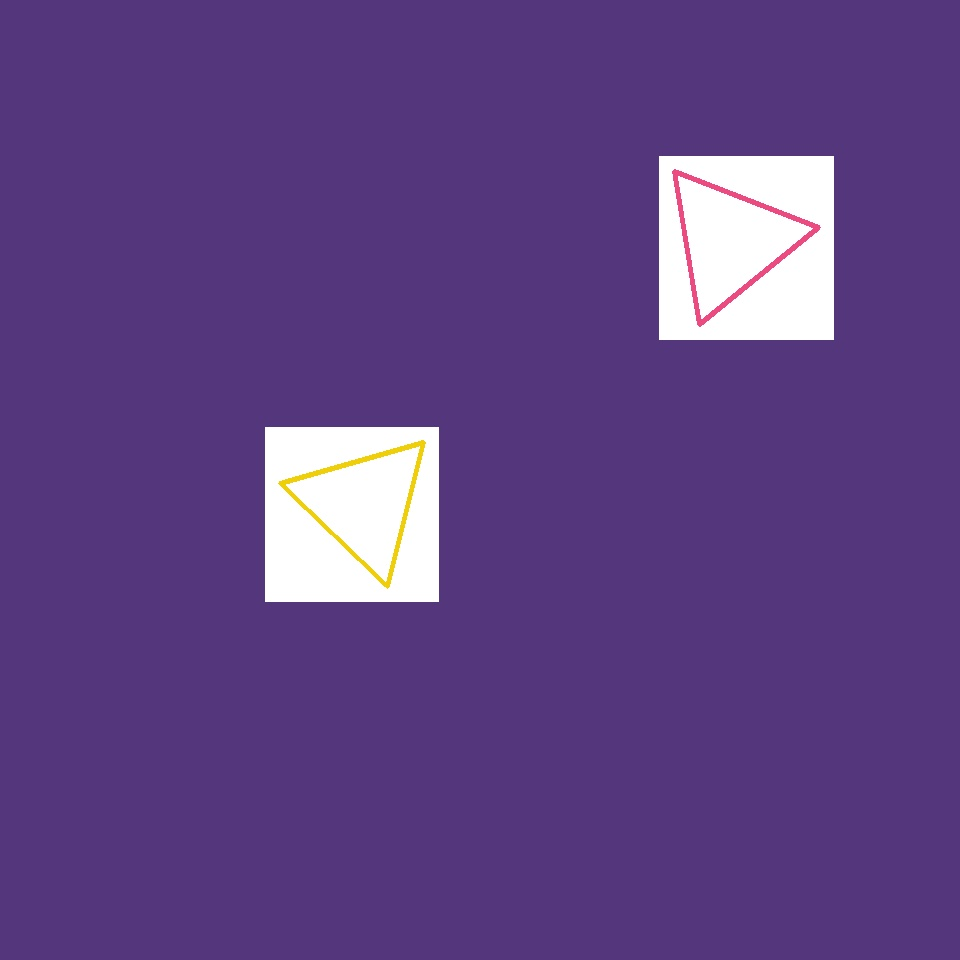circle: (534, 250, 800, 500), (659, 164, 803, 317), (292, 432, 436, 576)
triangle: (323, 264, 664, 606), (378, 42, 578, 242), (417, 28, 562, 172)
